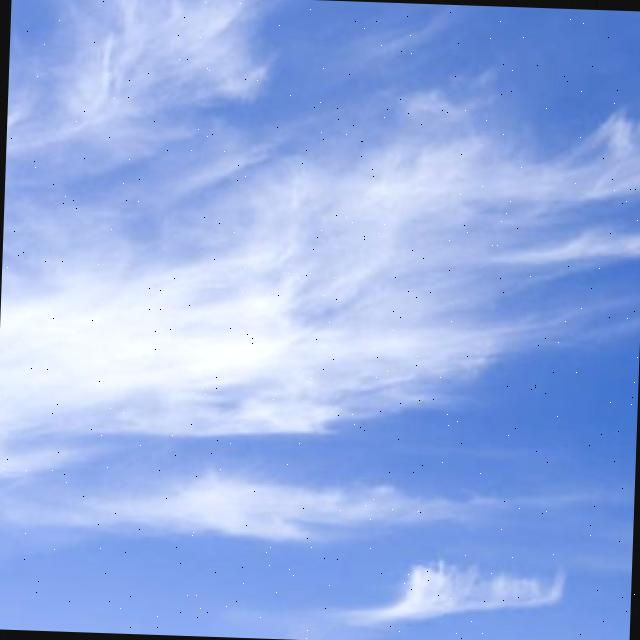Ci: (1, 1, 640, 450)
